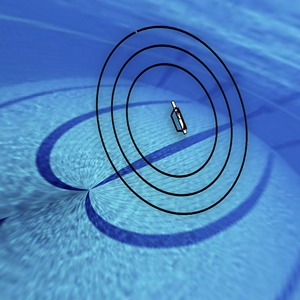circle: (91, 18, 255, 213)
submarine: (159, 95, 195, 141)
